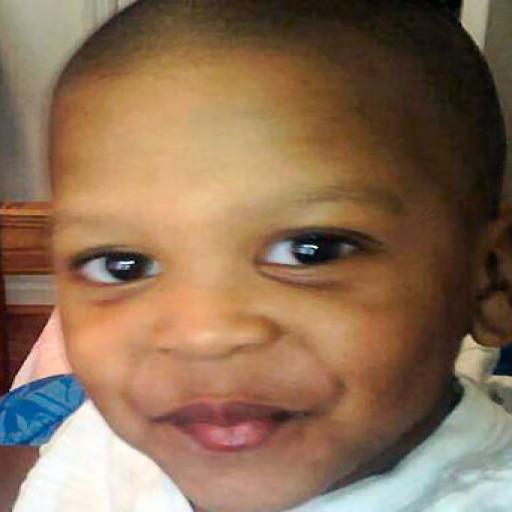Autism: (50, 17, 512, 483)
